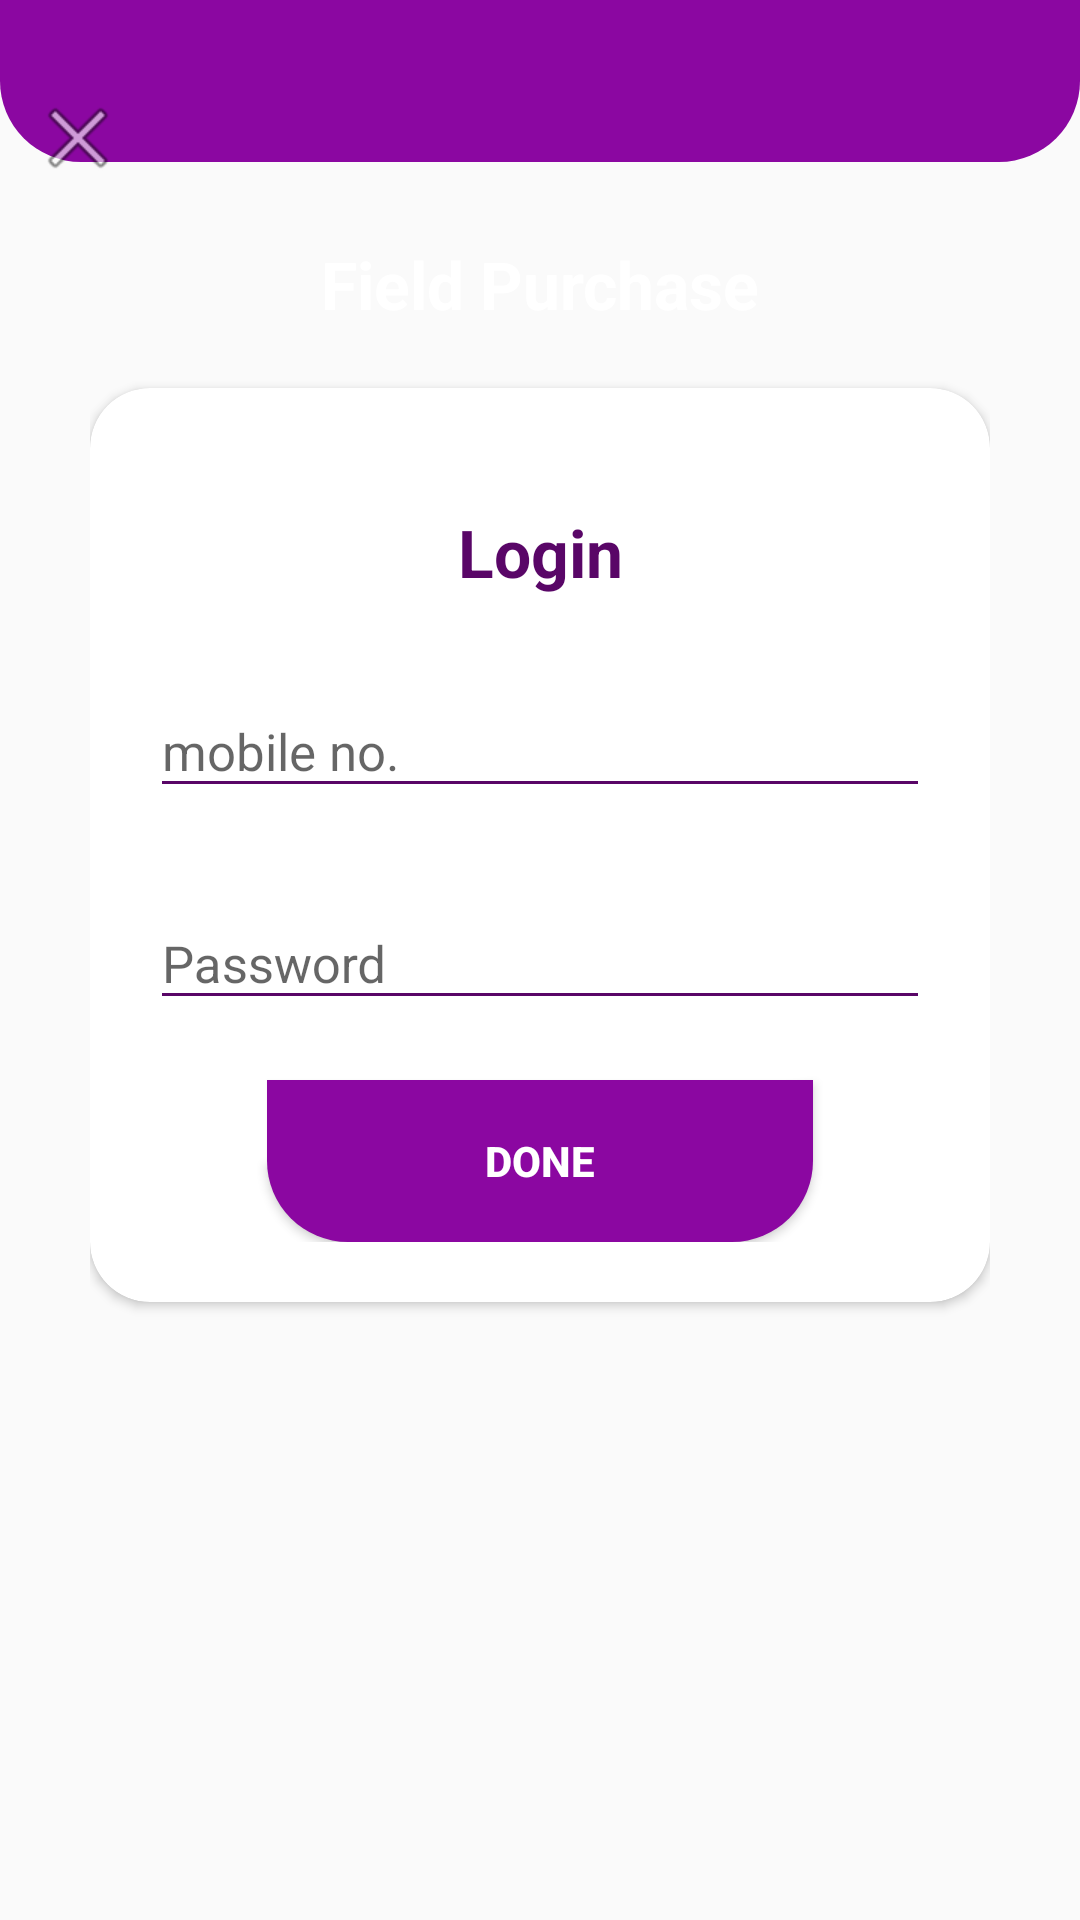

Where to tap for icons on this 1080x1920 app screen, as (x=x, y=y):
close clear cancel: (x=78, y=138)
